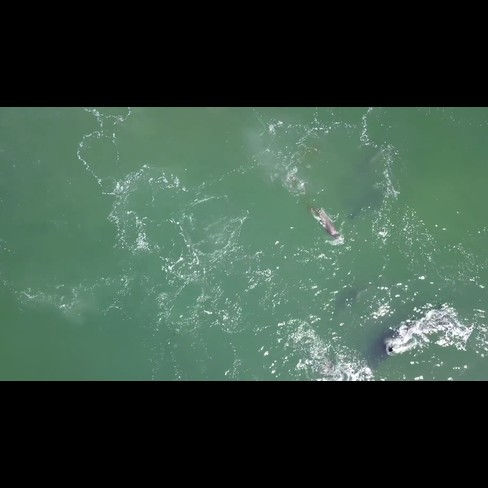orca: (307, 198, 347, 249)
